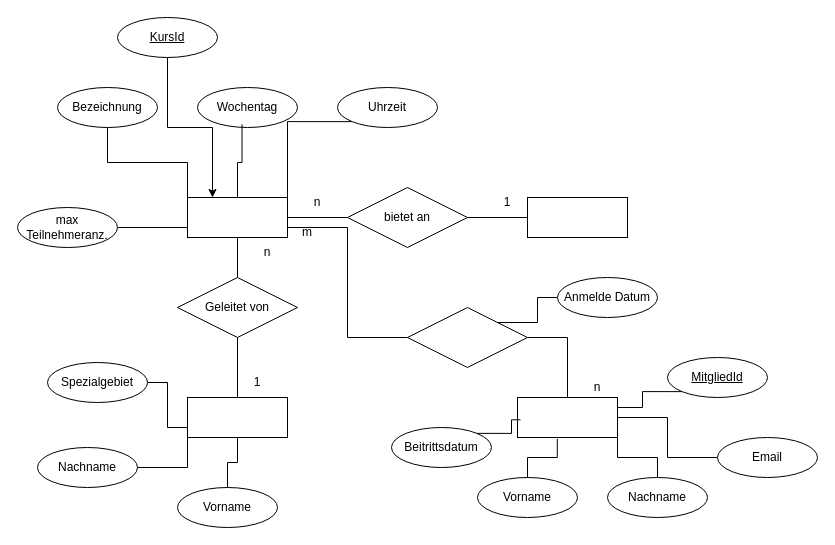
Image size: 835x545. Some labels were removed from this diagram. Here are the shapes that lost their labels. From the top down, the centre of each, then its label:
At pixel 237 217: "Kurs".
At pixel 577 217: "Studio".
At pixel 467 337: "Meldet an".
At pixel 237 417: "Trainer".
At pixel 567 417: "Mitglied".
